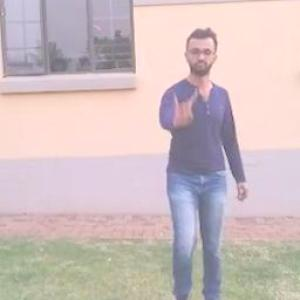takeoff-hand: (165, 81, 199, 132)
